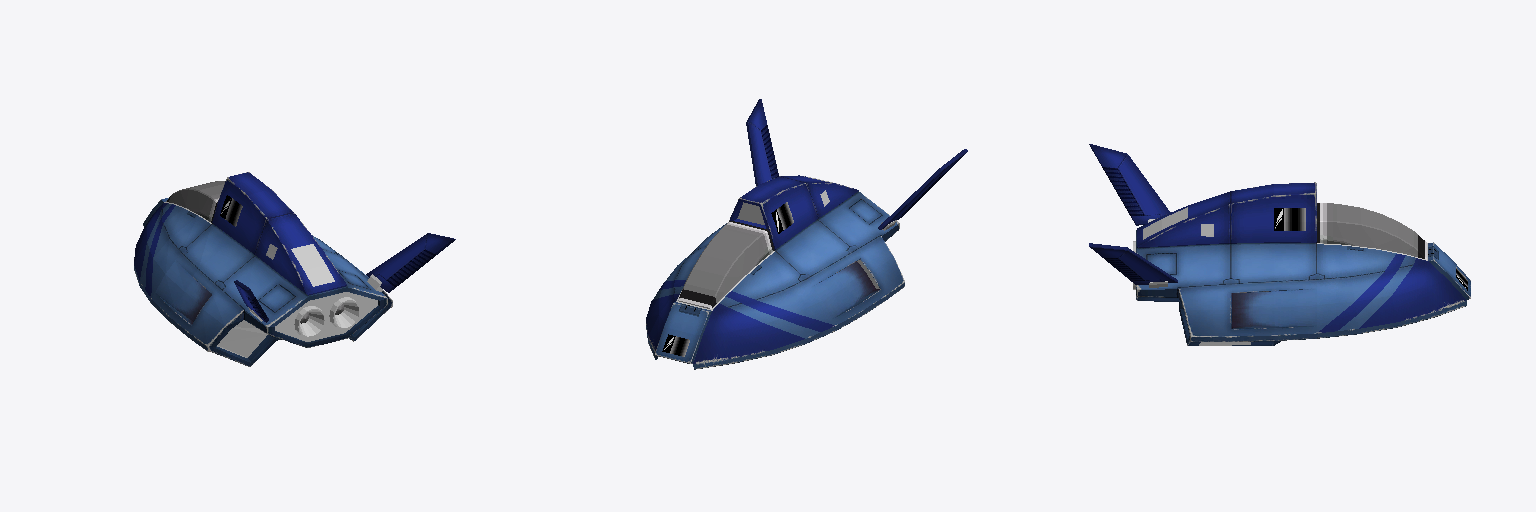
3 renders of one model, left to right at view 1: azimuth 30°, elevation 25°; view 2: azimuth 150°, elevation 25°; view 3: azimuth 270°, elevation 25°, orthographic.
Visible parts, largest first — view 1: 19_spaceangler_a; view 2: 19_spaceangler_a; view 3: 19_spaceangler_a.
Part boxes in pixels (x1,y1,x2,y2): 19_spaceangler_a: (134, 172, 455, 366); 19_spaceangler_a: (646, 99, 967, 369); 19_spaceangler_a: (1089, 144, 1470, 345).
Size of the model in its own units: 2.82 by 1.76 by 4.46.
Materials: 23 (6 with a texture image).